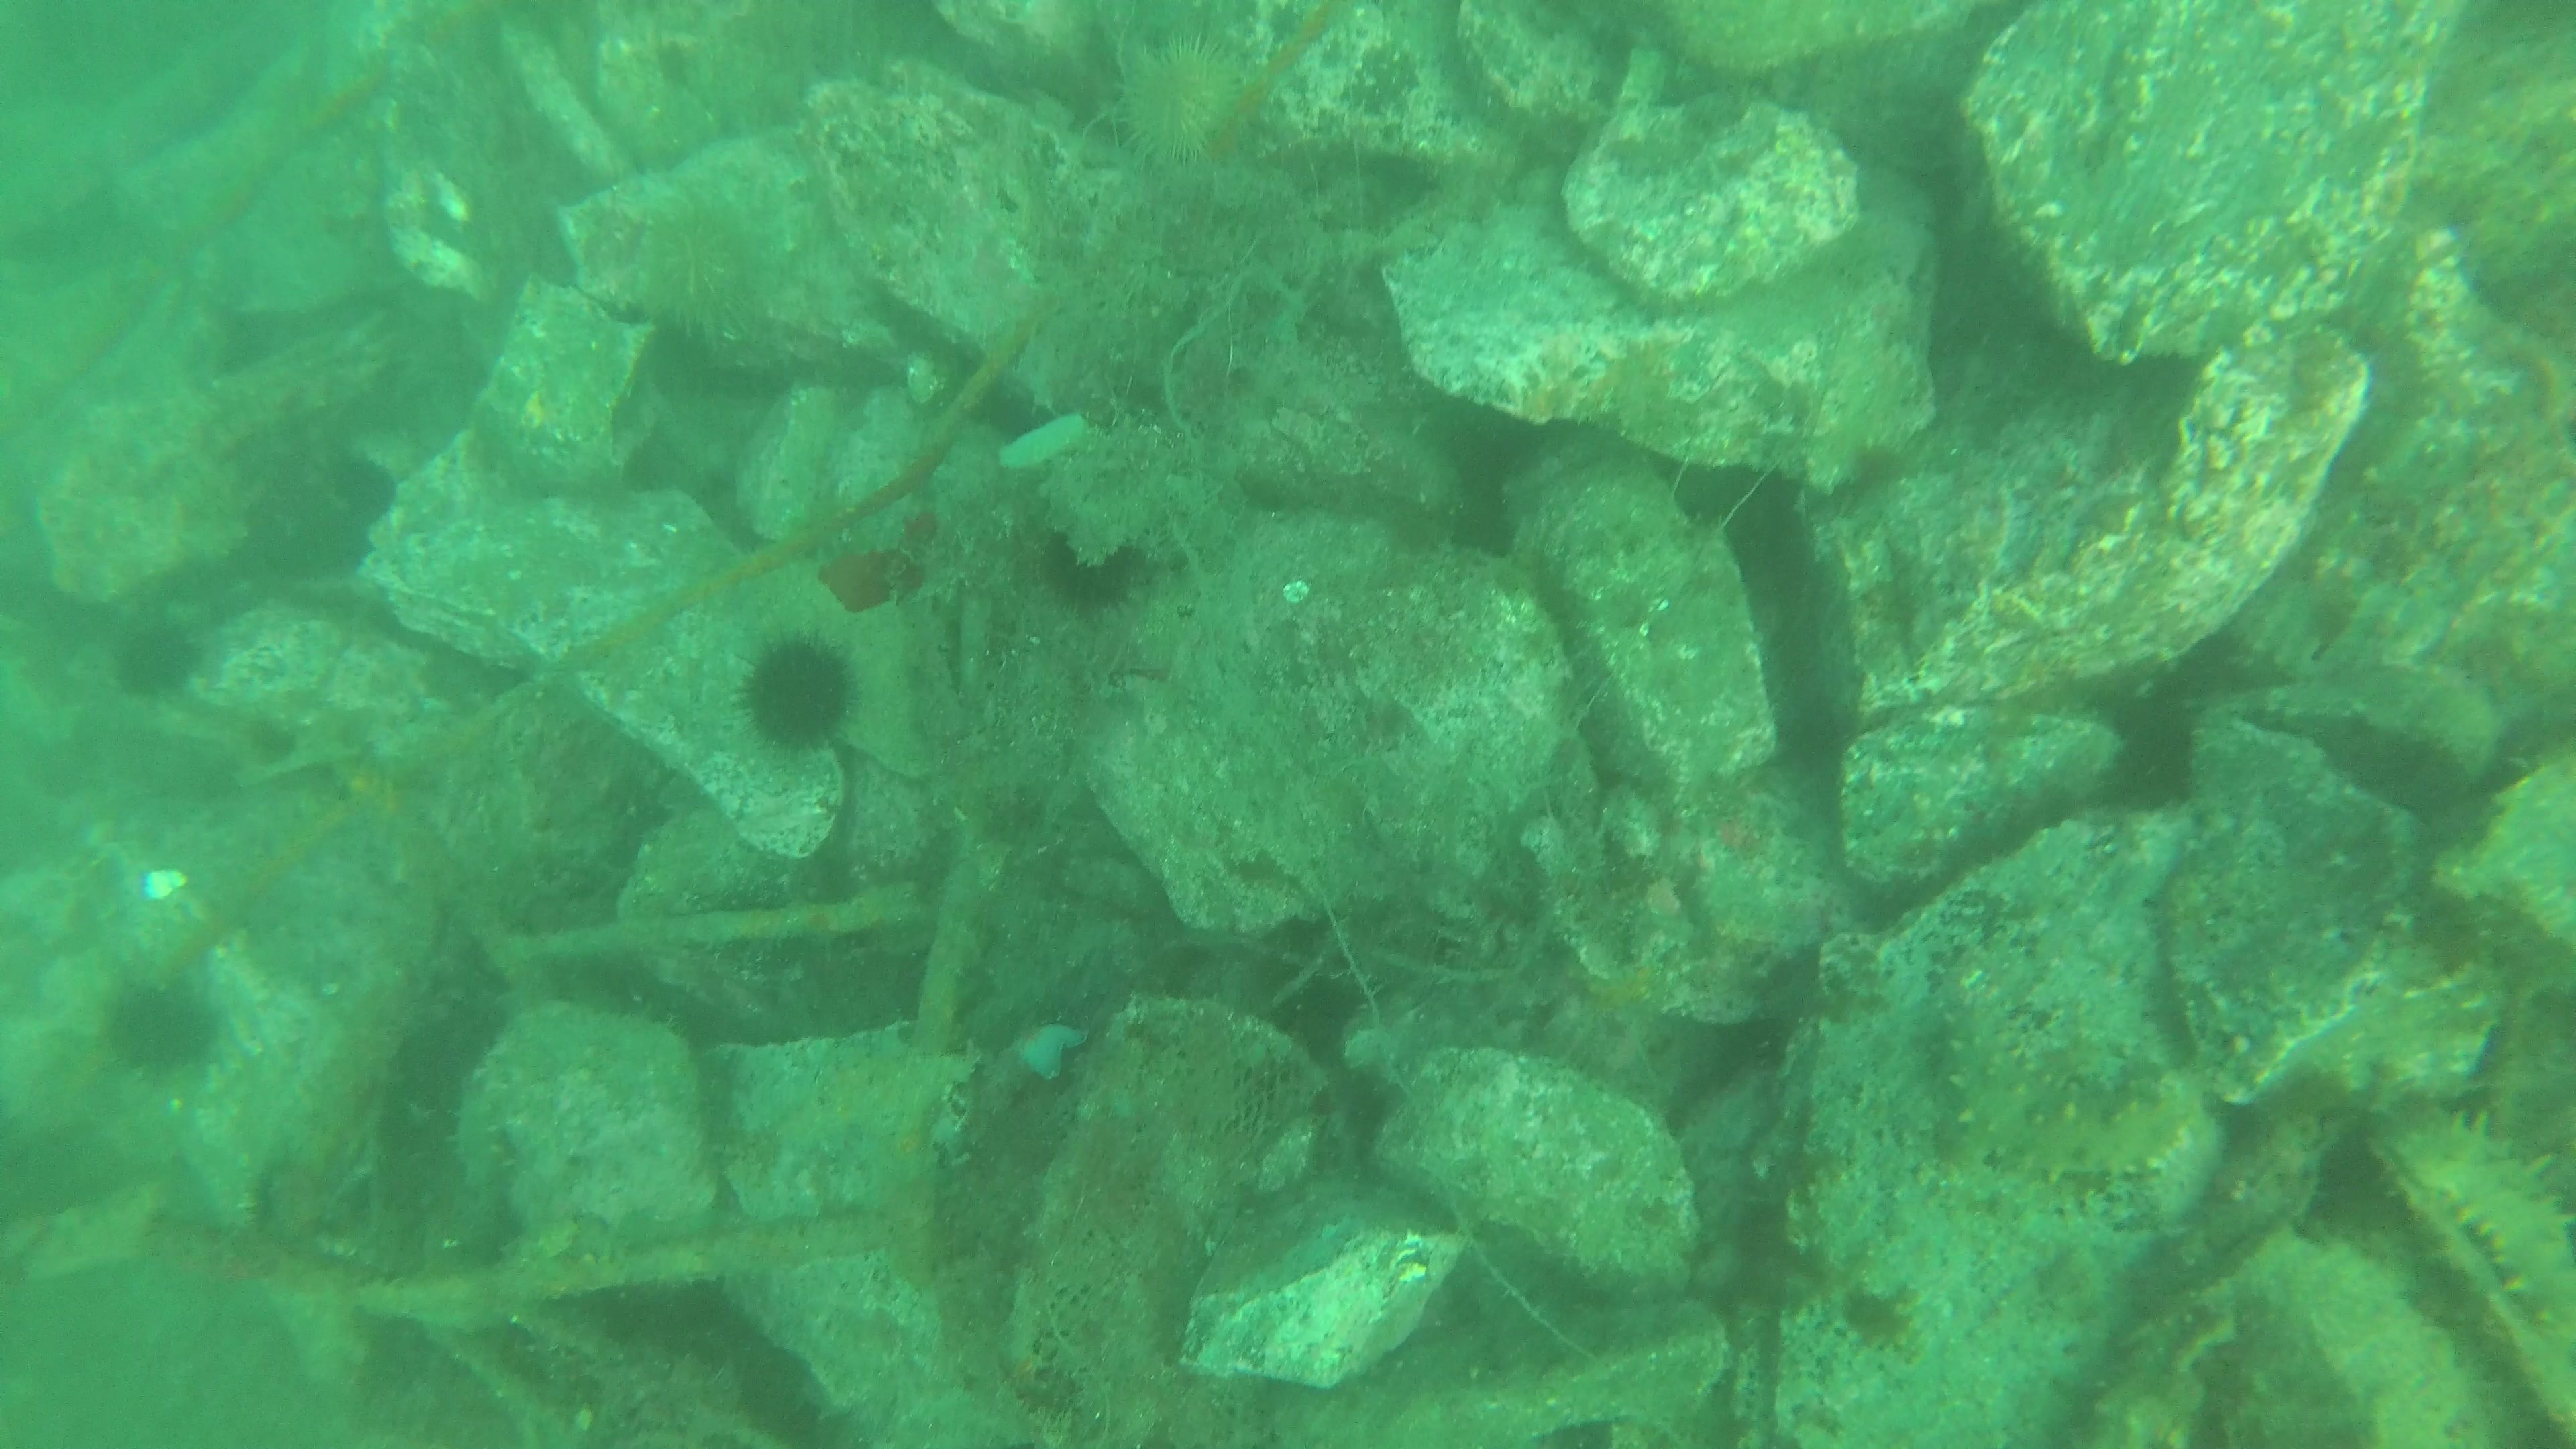echinus: (1102, 30, 1267, 175), (625, 193, 777, 341), (732, 628, 863, 757), (96, 971, 226, 1083), (1033, 525, 1154, 617), (106, 612, 209, 706)
holothurian: (1930, 982, 2219, 1198), (2373, 1102, 2576, 1334)
